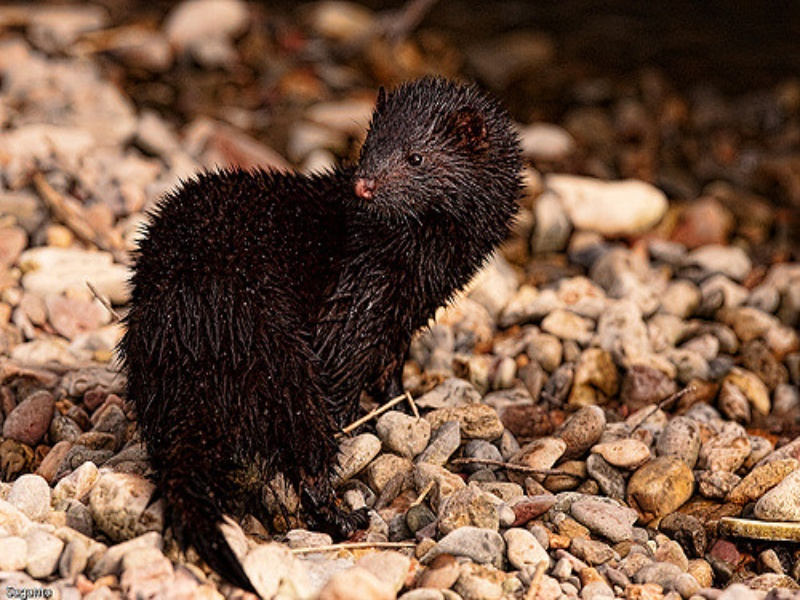minkish: (114, 71, 529, 576)
